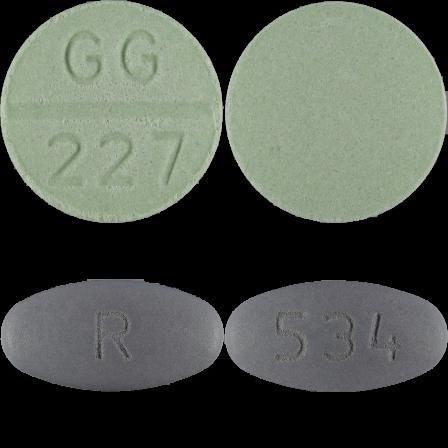0904-6347: (0, 0, 224, 224)
